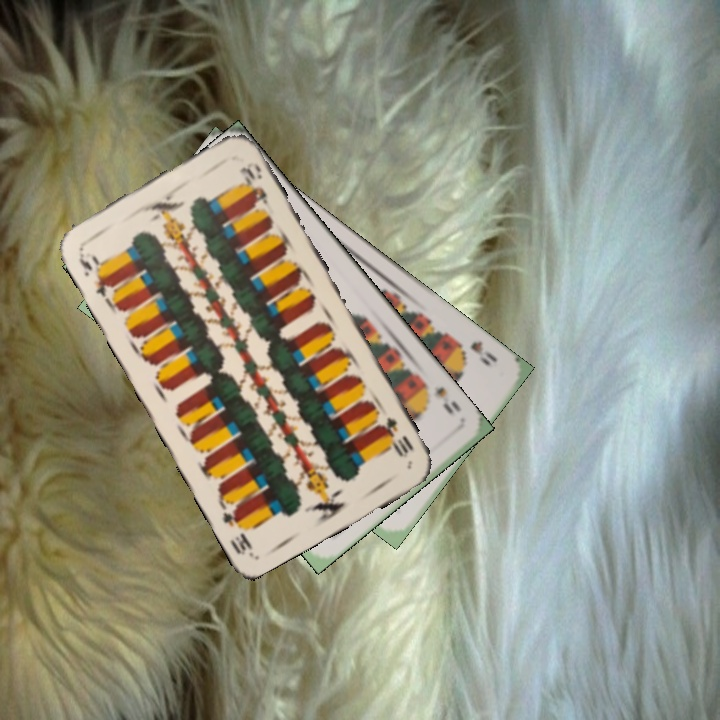E10: (74, 245, 115, 301), (375, 413, 416, 461)
S9: (449, 334, 500, 369), (430, 382, 464, 417)
